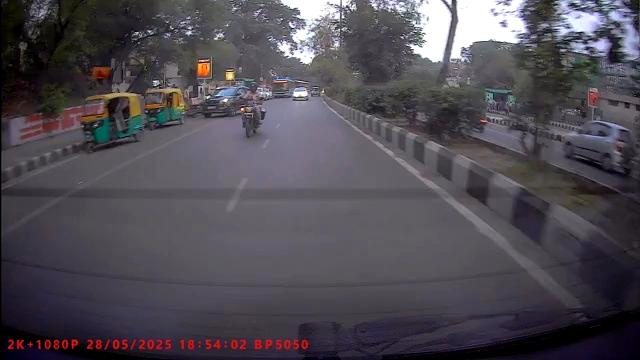motorcycle_with_helmet: (236, 81, 268, 140)
